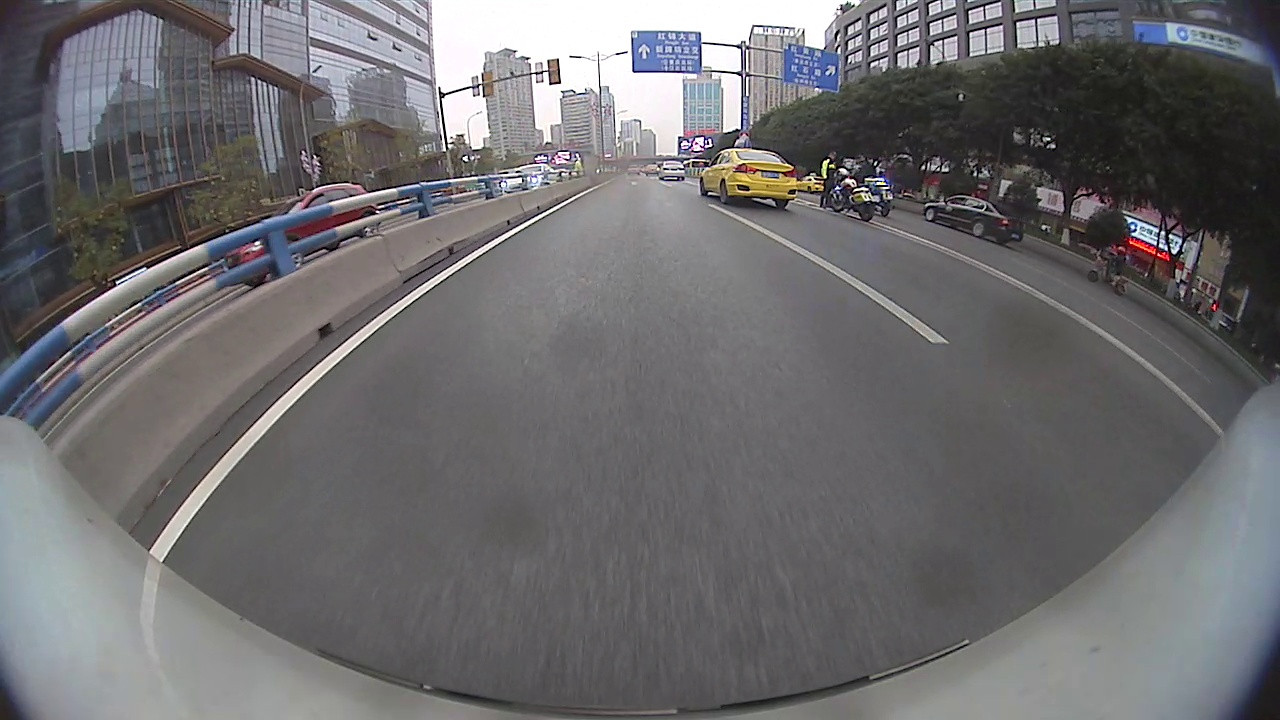car: (221, 180, 384, 289), (698, 133, 799, 210), (921, 194, 1025, 246), (796, 172, 826, 195), (656, 160, 687, 182)
front: (278, 239, 304, 271), (925, 209, 936, 223)
person: (820, 150, 838, 210)
rear: (359, 214, 383, 237), (973, 222, 986, 239), (719, 181, 729, 203)
rider: (828, 166, 876, 223), (1086, 245, 1132, 298), (858, 175, 895, 218)
